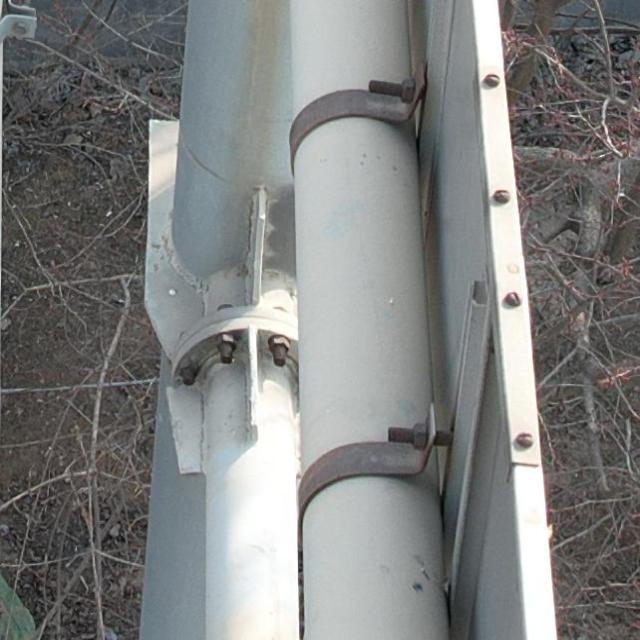blur bolt: (215, 332, 238, 354), (267, 335, 289, 357), (178, 360, 198, 379)
bolt side: (408, 419, 431, 454), (402, 74, 418, 107)
